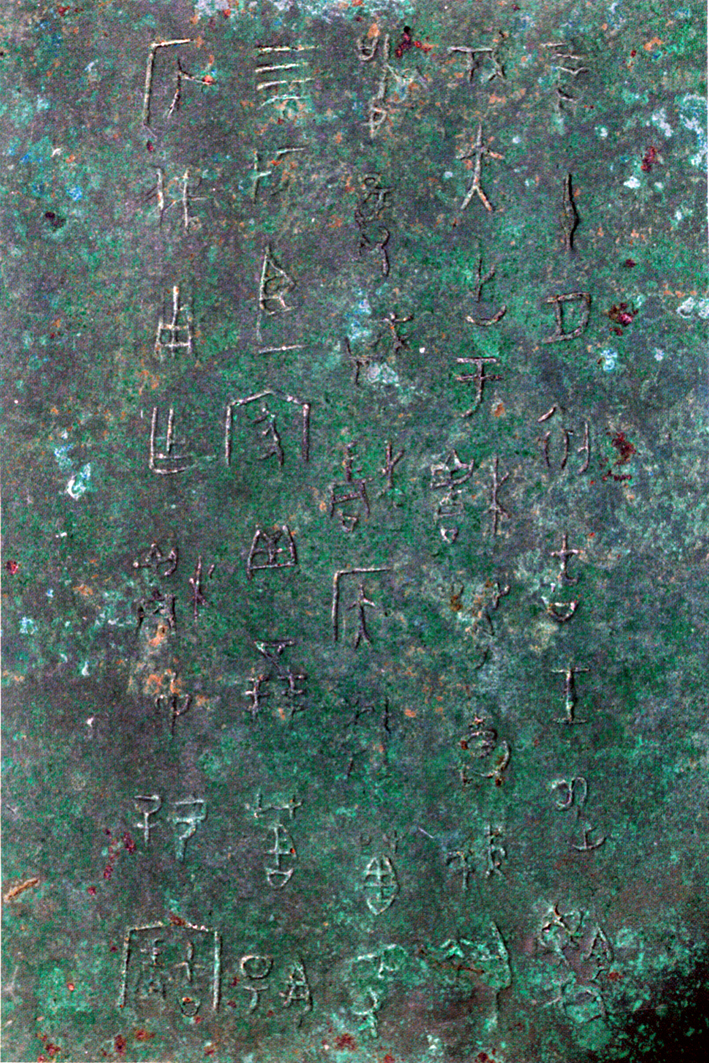char: (517, 907, 694, 1063), (90, 911, 256, 1041), (408, 924, 532, 1063), (204, 369, 352, 473), (322, 12, 440, 133), (502, 398, 652, 488), (233, 233, 325, 379), (505, 275, 662, 360), (120, 522, 266, 612), (519, 165, 640, 272), (103, 784, 231, 885), (321, 163, 426, 284), (502, 517, 621, 620), (316, 299, 446, 393), (522, 753, 641, 853), (105, 631, 218, 735), (114, 271, 236, 367), (107, 38, 231, 132), (325, 685, 414, 811), (526, 24, 623, 138), (414, 454, 520, 557), (434, 579, 541, 681), (230, 772, 305, 911), (230, 930, 322, 1043), (117, 380, 208, 491), (315, 849, 438, 930), (435, 115, 516, 236), (331, 420, 401, 560), (240, 44, 342, 137), (299, 567, 422, 641), (235, 629, 334, 720), (543, 649, 644, 735), (224, 493, 314, 589), (446, 18, 537, 112), (110, 159, 213, 241), (327, 959, 408, 1063), (445, 694, 523, 796), (434, 808, 517, 901), (435, 333, 516, 425), (445, 245, 526, 330), (230, 155, 345, 207)
